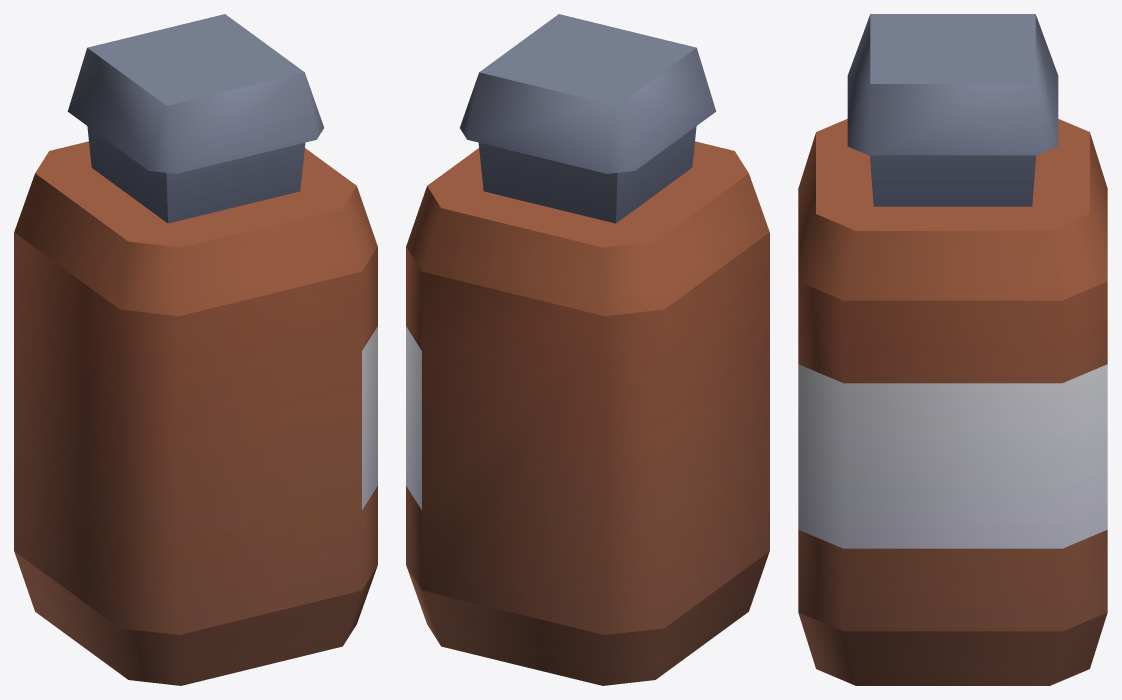
Rendered from peppar.glb.
The picture shows the model from 3 angles, left to right: view 1: azimuth 30°, elevation 25°; view 2: azimuth 150°, elevation 25°; view 3: azimuth 270°, elevation 25°; orthographic projection. The views are drawn at different scales.
Parts seen in each view (by area): view 1: shaker-salt; view 2: shaker-salt; view 3: shaker-salt.
Boxes of the visible parts, x1,y1,x2,y2 form: shaker-salt: [14, 14, 377, 685]; shaker-salt: [406, 14, 769, 685]; shaker-salt: [798, 14, 1107, 685].
Size of the model in its own units: 0.0949 by 0.196 by 0.0949.
1 material, 1 textured.
